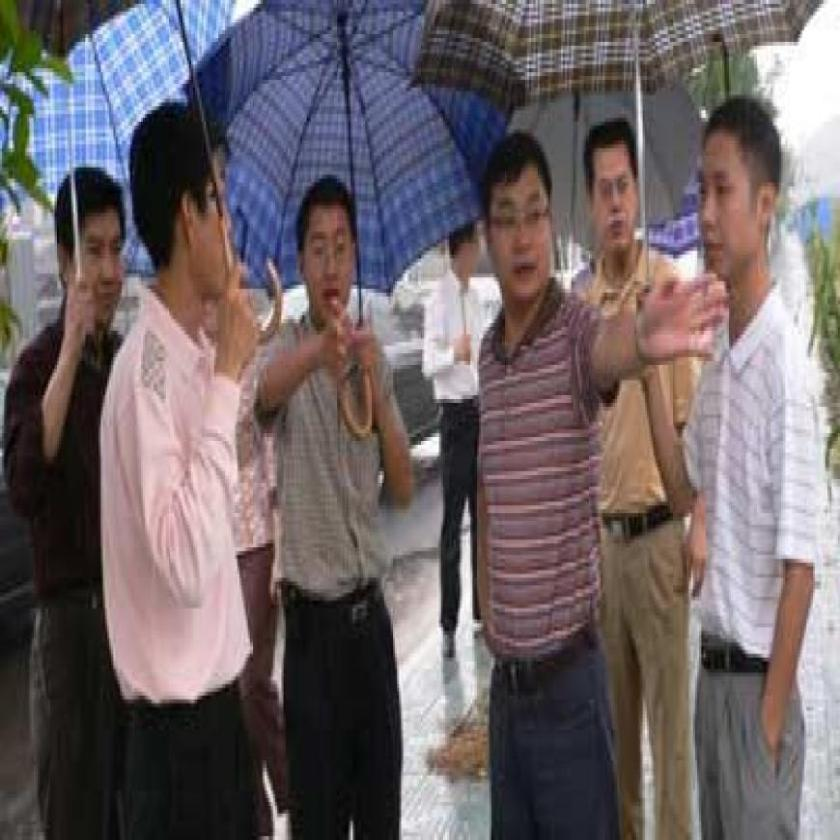Sin_casco: (128, 96, 241, 307), (690, 92, 788, 304), (52, 156, 132, 345), (478, 136, 561, 315), (297, 175, 364, 324), (586, 117, 644, 267), (448, 211, 488, 278)
